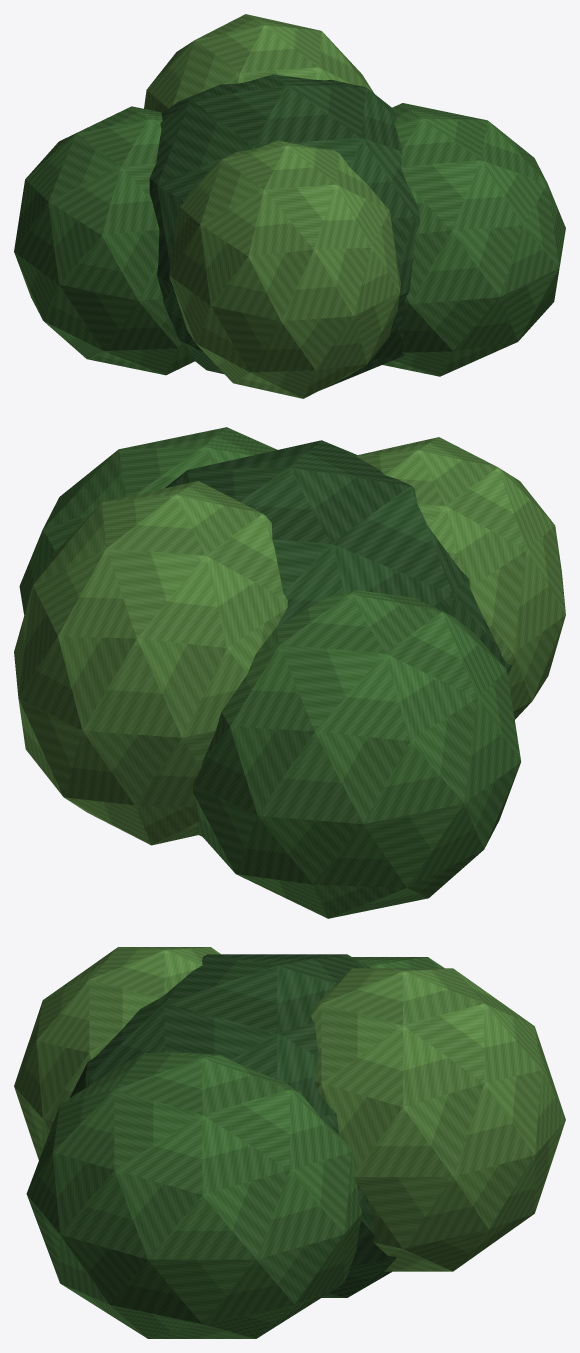
Rendered from tree_c.glb.
The picture shows the model from 3 angles, top to bottom: view 1: azimuth 30°, elevation 25°; view 2: azimuth 150°, elevation 25°; view 3: azimuth 270°, elevation 25°; orthographic projection. The views are drawn at different scales.
Parts seen in each view (by area): view 1: Icosphere; view 2: Icosphere; view 3: Icosphere.
Boxes of the visible parts, x1,y1,x2,y2 form: Icosphere: [14, 14, 565, 398]; Icosphere: [14, 427, 565, 918]; Icosphere: [14, 947, 565, 1338].
Bounding box in the file's own units: 0.54 × 0.36 × 0.54.
1 material, 1 textured.
